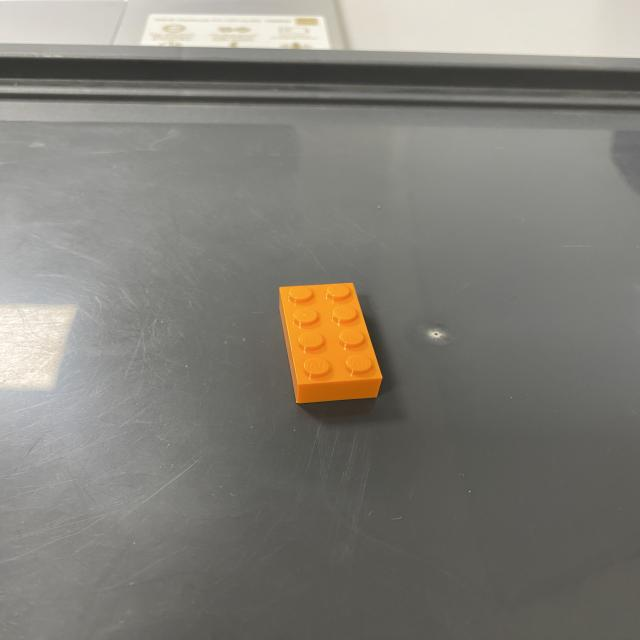C4x2x1: (275, 283, 391, 386), (301, 376, 397, 408)
